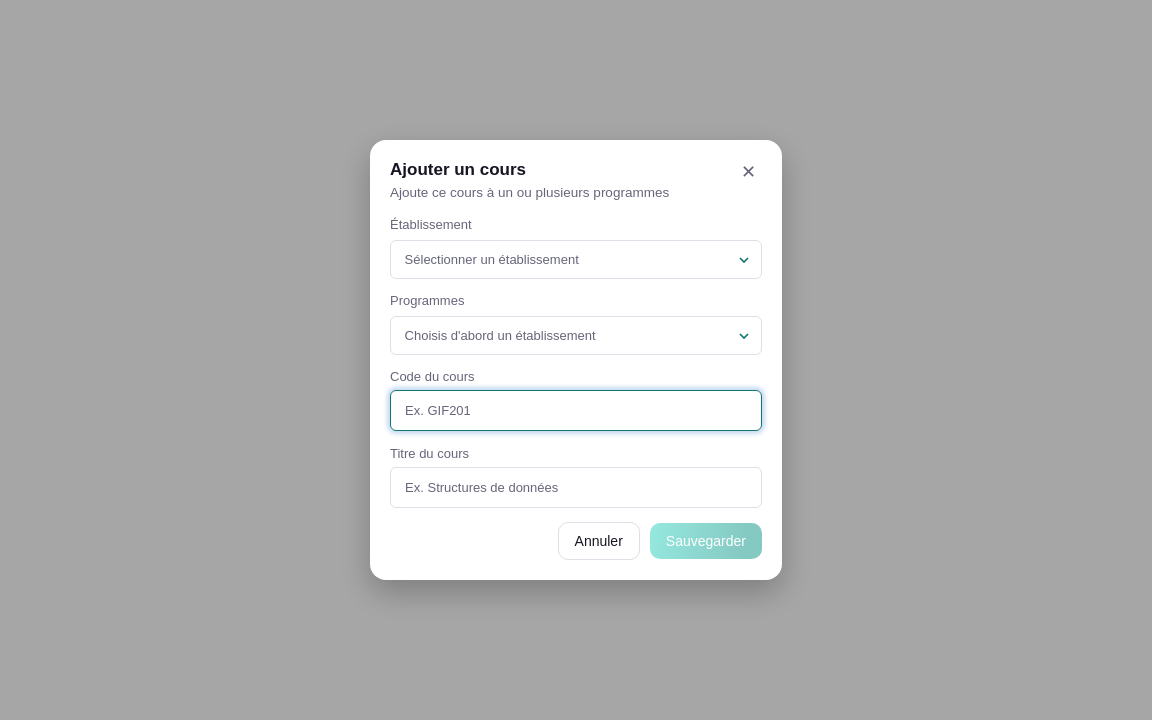
AddCoursePopup › ajouter puis retirer un programme (chips)
This screenshot has width=1152, height=720.
Click the element showing "Sélectionner un établissement": (576, 260) x1=390 y1=240 x2=762 y2=279
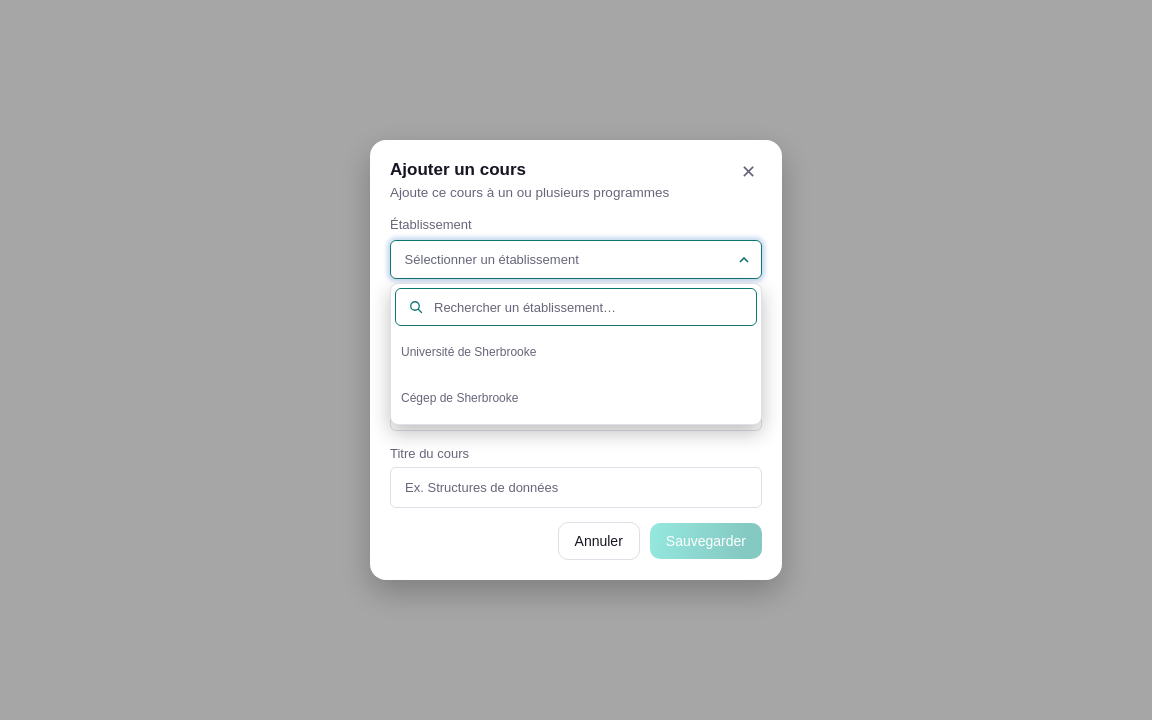
Click the button "Université de Sherbrooke": (469, 352) x1=395 y1=330 x2=753 y2=374
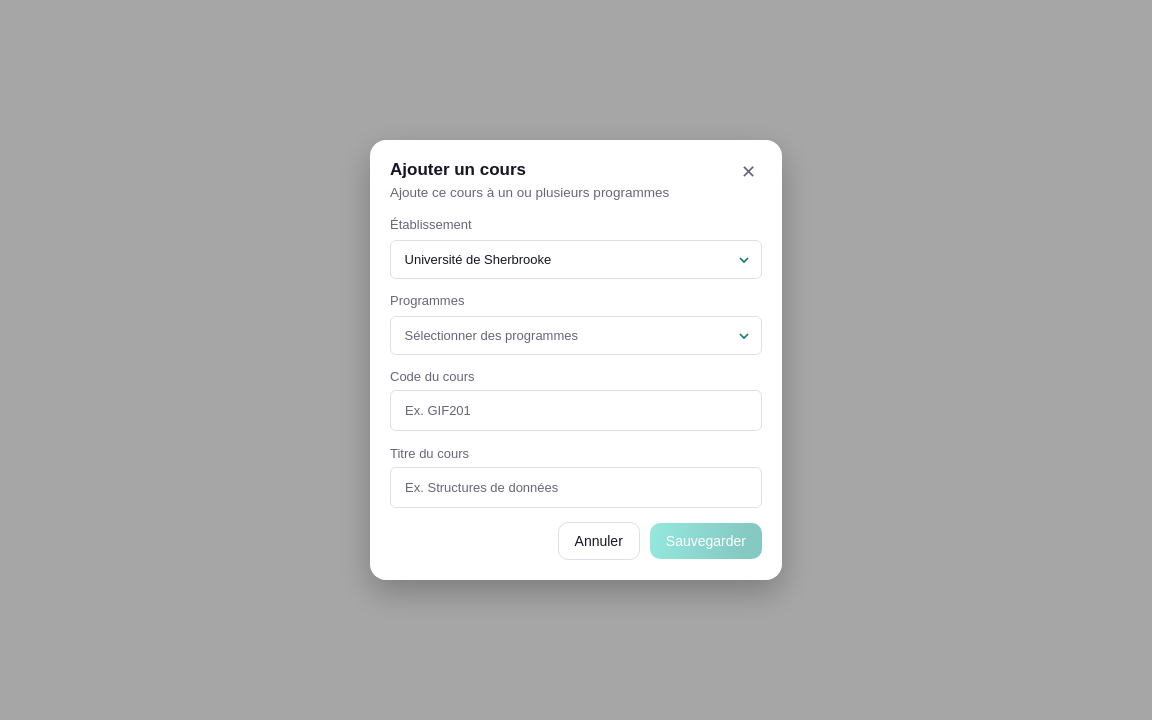
Click the element showing "Sélectionner des programmes": (576, 336) x1=390 y1=316 x2=762 y2=355
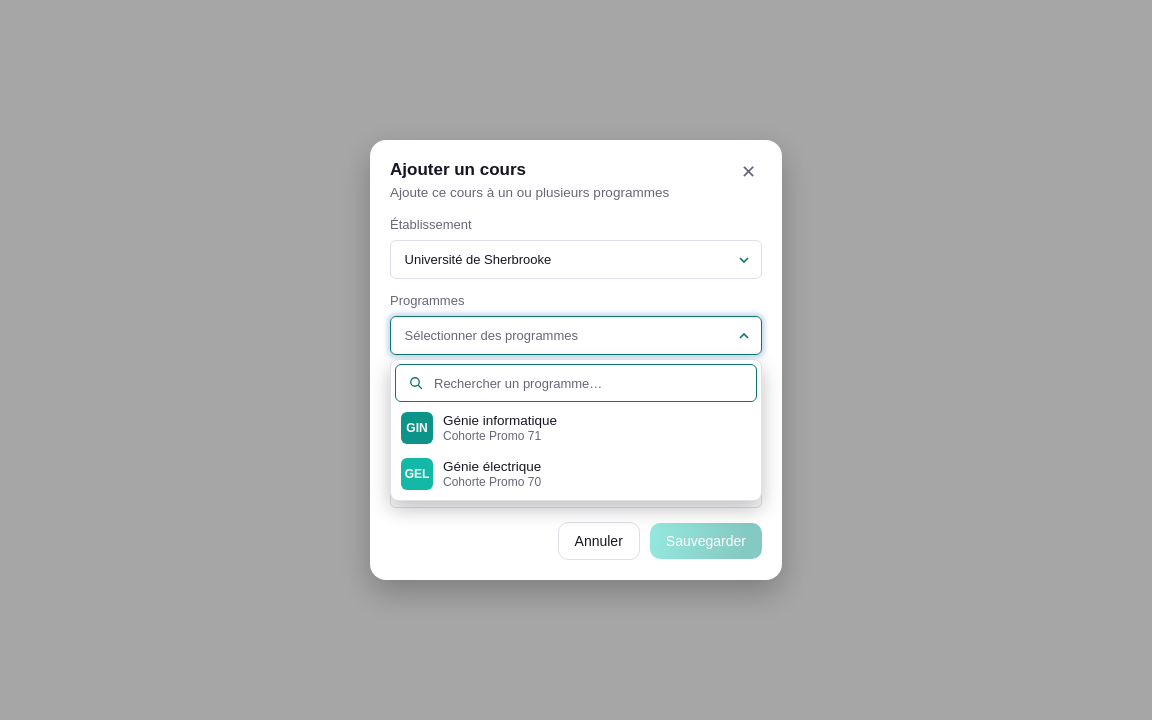
Click the text "Génie informatique": (500, 421) x1=443 y1=413 x2=557 y2=428
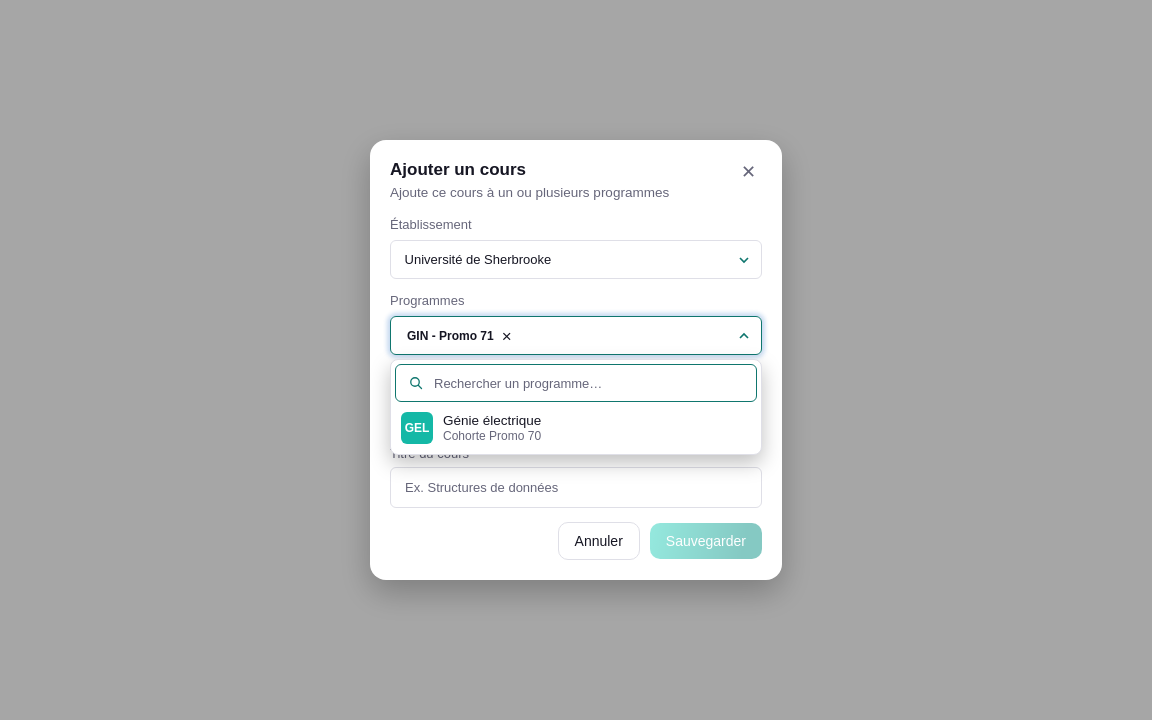
Result: the field with placeholder "Rechercher un programme…" is shown at x1=434 y1=376 x2=744 y2=391
Result: the text "GIN - Promo 71" is shown at x1=407 y1=330 x2=494 y2=342
Result: the button "Génie informatique" is gone
Click the button named "Retirer Génie informatique": (507, 337) x1=498 y1=328 x2=516 y2=346
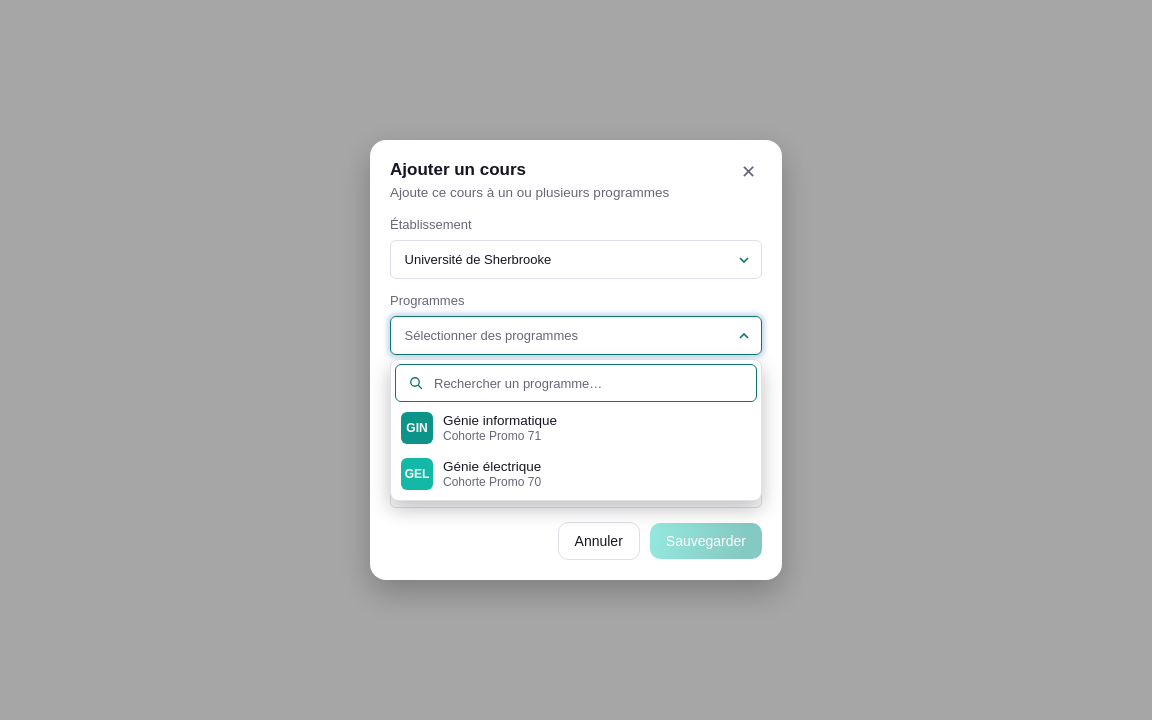
Result: the text "GIN - Promo 71" is gone
Result: the text "Sélectionner des programmes" is shown at x1=405 y1=328 x2=578 y2=343
